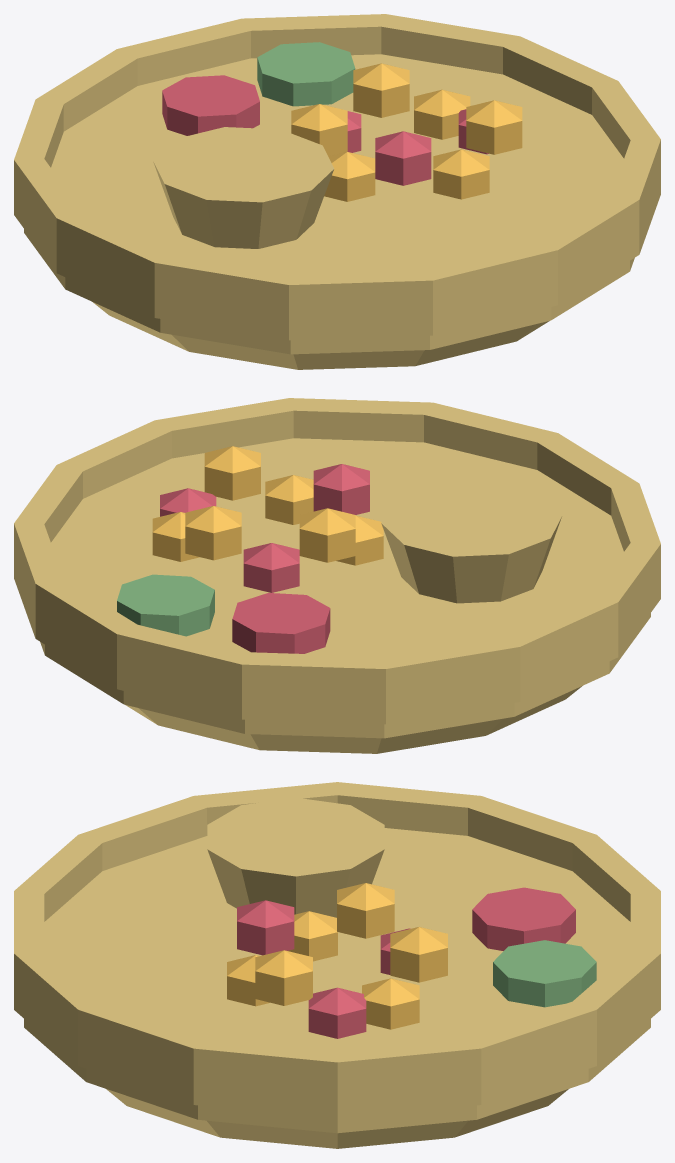
Rendered from indian-bazaar-street-and-temple-offering-tray-62b67939__36538.glb.
The picture shows the model from 3 angles, top to bottom: view 1: azimuth 30°, elevation 25°; view 2: azimuth 150°, elevation 25°; view 3: azimuth 270°, elevation 25°; orthographic projection. The views are drawn at different scales.
Parts seen in each view (by area): view 1: offering-tray-brass, offering-tray-saffron, offering-tray-crimson, offering-tray-leaf; view 2: offering-tray-brass, offering-tray-saffron, offering-tray-crimson, offering-tray-leaf; view 3: offering-tray-brass, offering-tray-saffron, offering-tray-crimson, offering-tray-leaf.
Boxes of the visible parts, <box> form: offering-tray-brass: <box>14,14,660,369</box>; offering-tray-saffron: <box>291,63,522,201</box>; offering-tray-crimson: <box>162,75,488,185</box>; offering-tray-leaf: <box>257,42,355,106</box>; offering-tray-brass: <box>14,398,660,753</box>; offering-tray-saffron: <box>152,446,383,565</box>; offering-tray-crimson: <box>160,464,369,653</box>; offering-tray-leaf: <box>117,574,214,636</box>; offering-tray-brass: <box>14,782,660,1148</box>; offering-tray-saffron: <box>227,883,447,1029</box>; offering-tray-crimson: <box>237,887,575,1038</box>; offering-tray-leaf: <box>493,940,596,1007</box>.
Bounding box in the file's own units: 0.64 × 0.1596 × 0.624.
